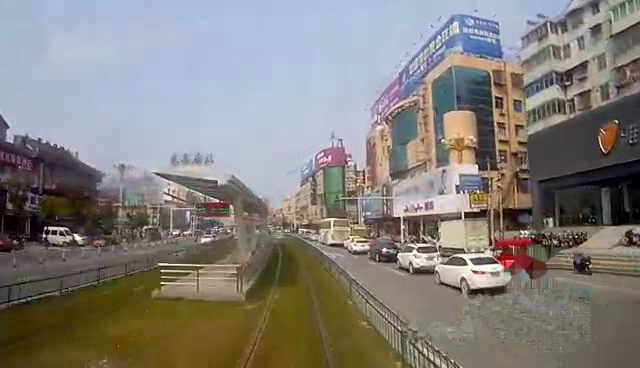car: (439, 251, 515, 293), (392, 240, 449, 275), (369, 237, 401, 264)
